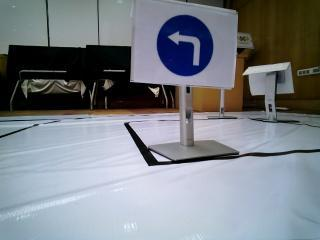left: (143, 3, 229, 82)
